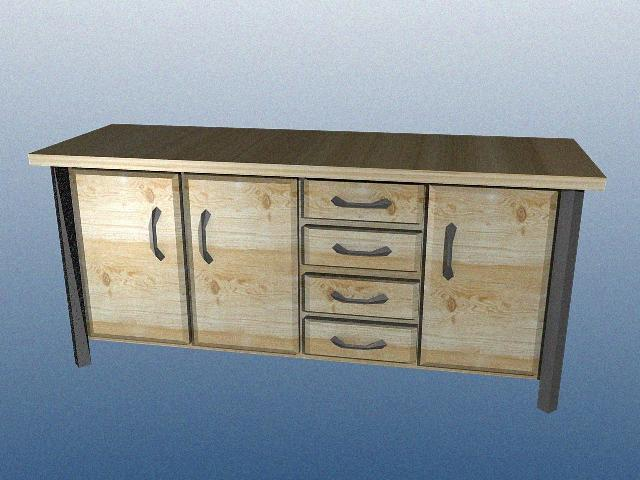cabinet_door: (424, 188, 550, 373), (186, 175, 298, 352), (78, 170, 186, 342), (298, 181, 428, 221), (298, 228, 425, 268), (298, 276, 422, 316), (299, 322, 420, 360)
handle: (328, 192, 396, 212), (327, 286, 392, 306), (329, 333, 390, 353), (195, 206, 214, 265), (440, 222, 459, 281), (333, 242, 392, 260), (145, 204, 163, 258)
